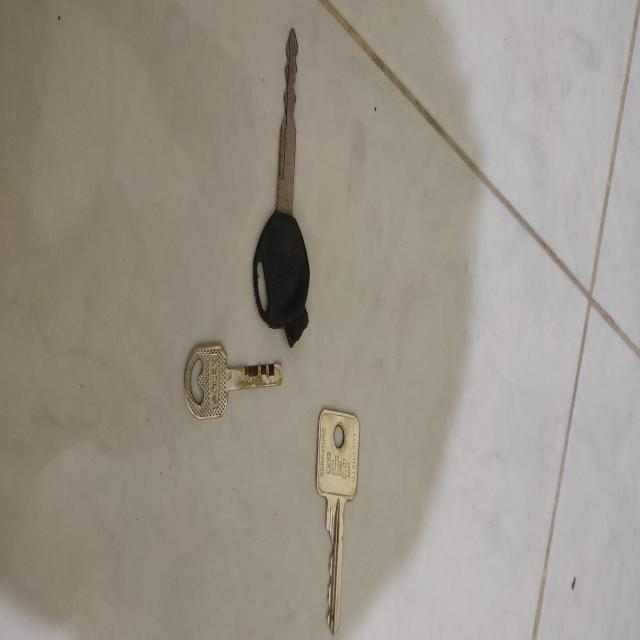kunci_kos: (314, 398, 364, 634)
kunci_motor: (250, 23, 311, 351)
kunci_pagar: (179, 340, 284, 426)
